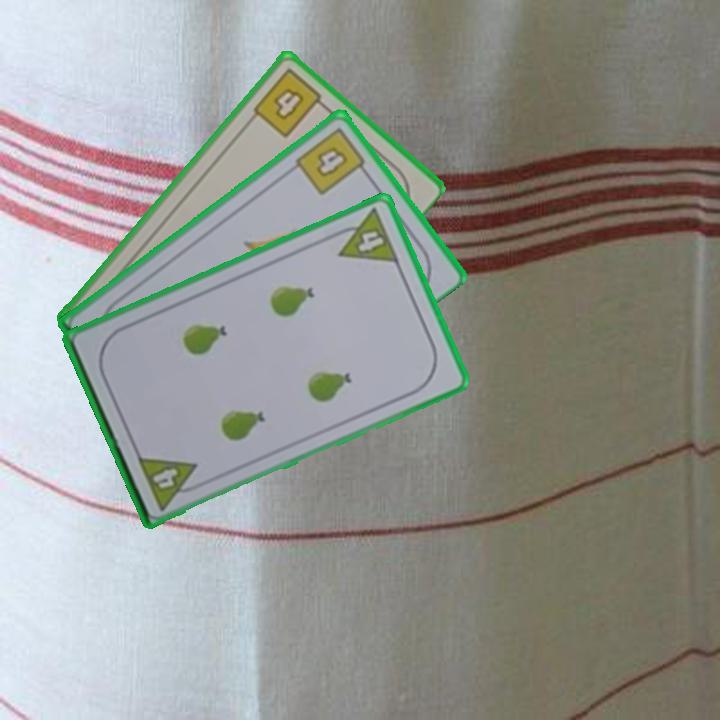4b: (249, 64, 331, 141), (291, 123, 372, 198)
4p: (327, 204, 402, 266), (133, 451, 207, 513)
